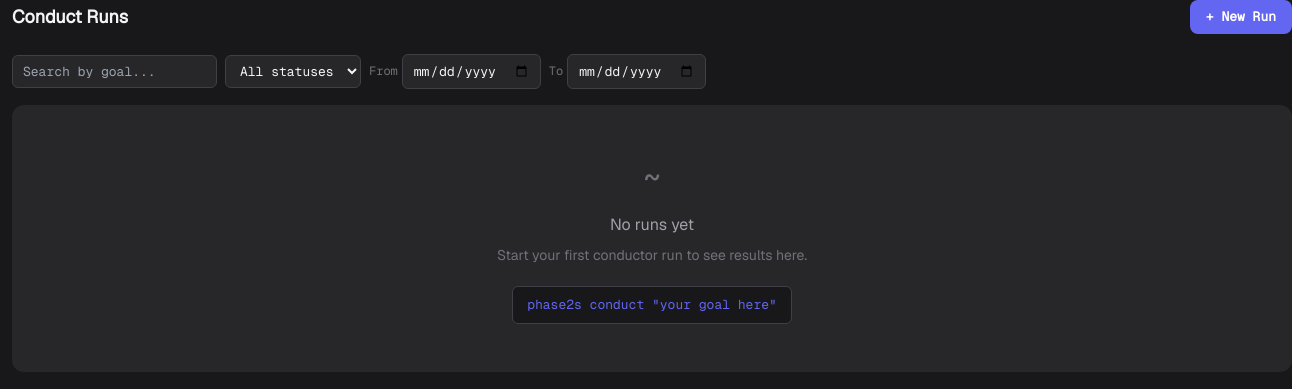
RunsPage 'Clear filters' button appears when a filter is active
This screenshot has width=1292, height=389.
Type "fix" into the search field labelled "Search by goal...". click: (114, 71)
box: [12, 54, 217, 88]
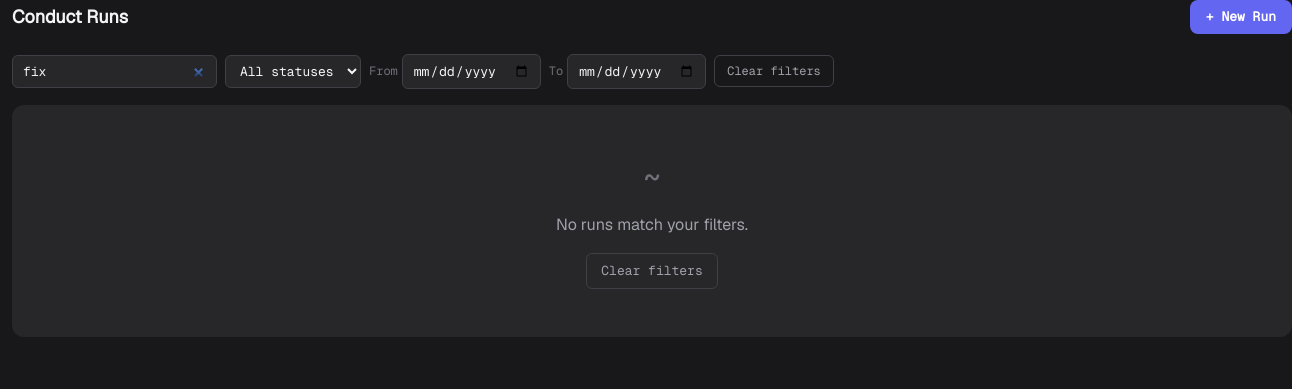
Expected: the button "Clear filters" next to "To" is shown, [714, 55, 834, 87]
